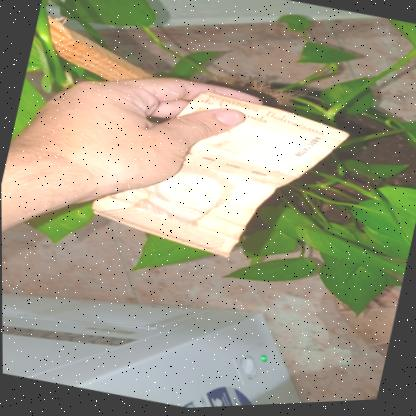five-front-vef: (83, 67, 355, 286)
